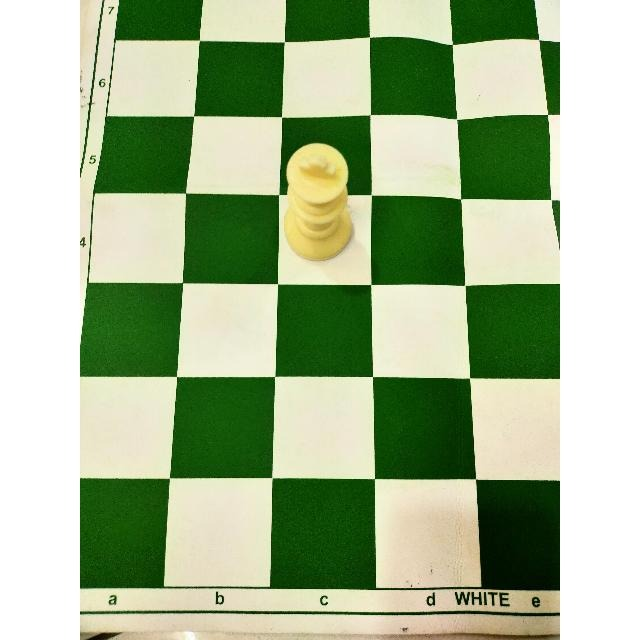white-king: (279, 136, 360, 264)
